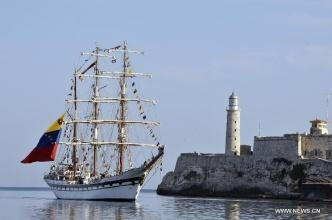fanchuan: (40, 38, 166, 202)
